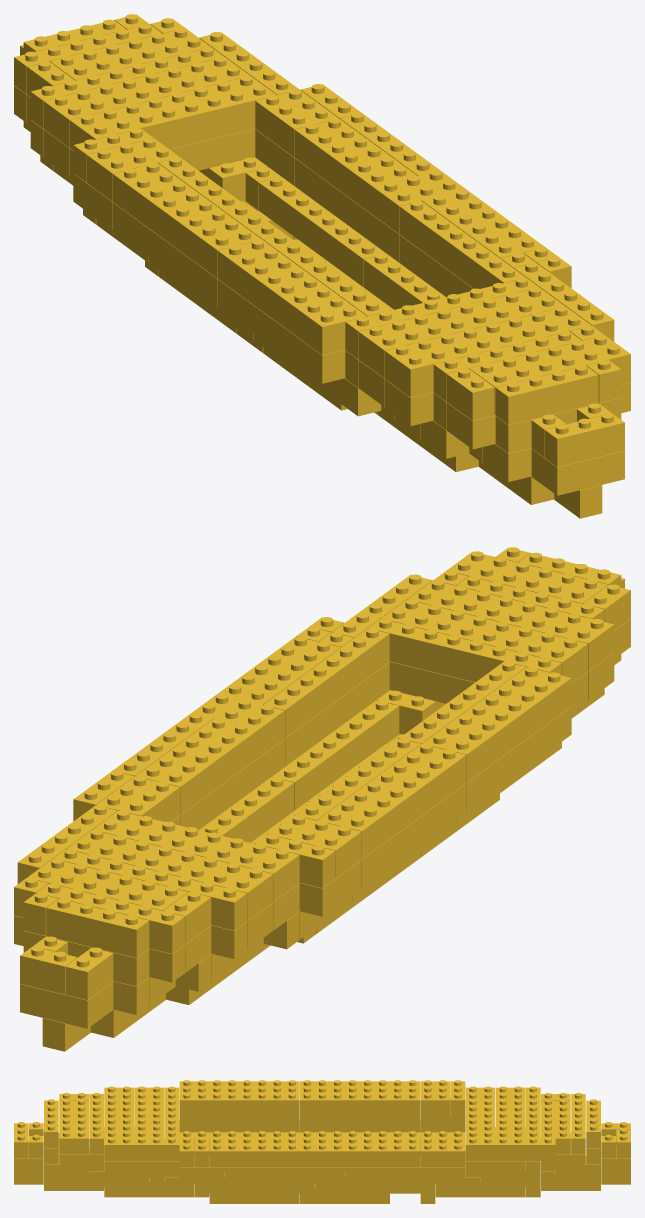
3 views of the same model, one above another, from view 1: azimuth 30°, elevation 25°; view 2: azimuth 150°, elevation 25°; view 3: azimuth 270°, elevation 25° (orthographic). The views are drawn at different scales.
Visible parts, largest first — view 1: vessel_L1_P1_G; view 2: vessel_L1_P1_G; view 3: vessel_L1_P1_G.
Part boxes in pixels (x1,y1,x2,y2): vessel_L1_P1_G: [14, 14, 630, 518]; vessel_L1_P1_G: [14, 547, 630, 1051]; vessel_L1_P1_G: [14, 1080, 630, 1203].
Size of the model in its own units: 10.97 by 6.19 by 40.97.
